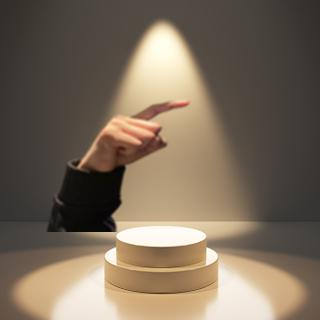WHY: (76, 94, 195, 171)
